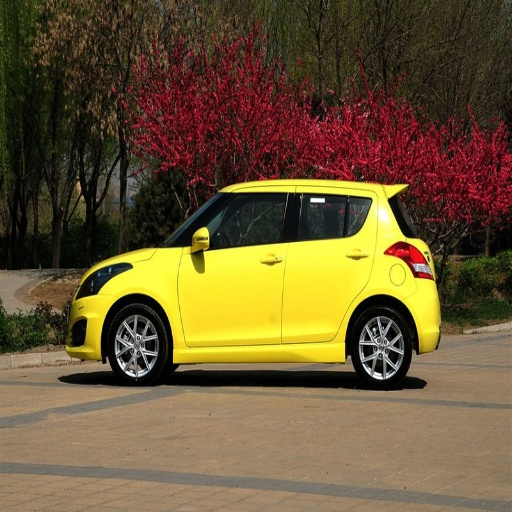back_left_door: (282, 190, 373, 342)
front_left_door: (178, 190, 292, 347)
